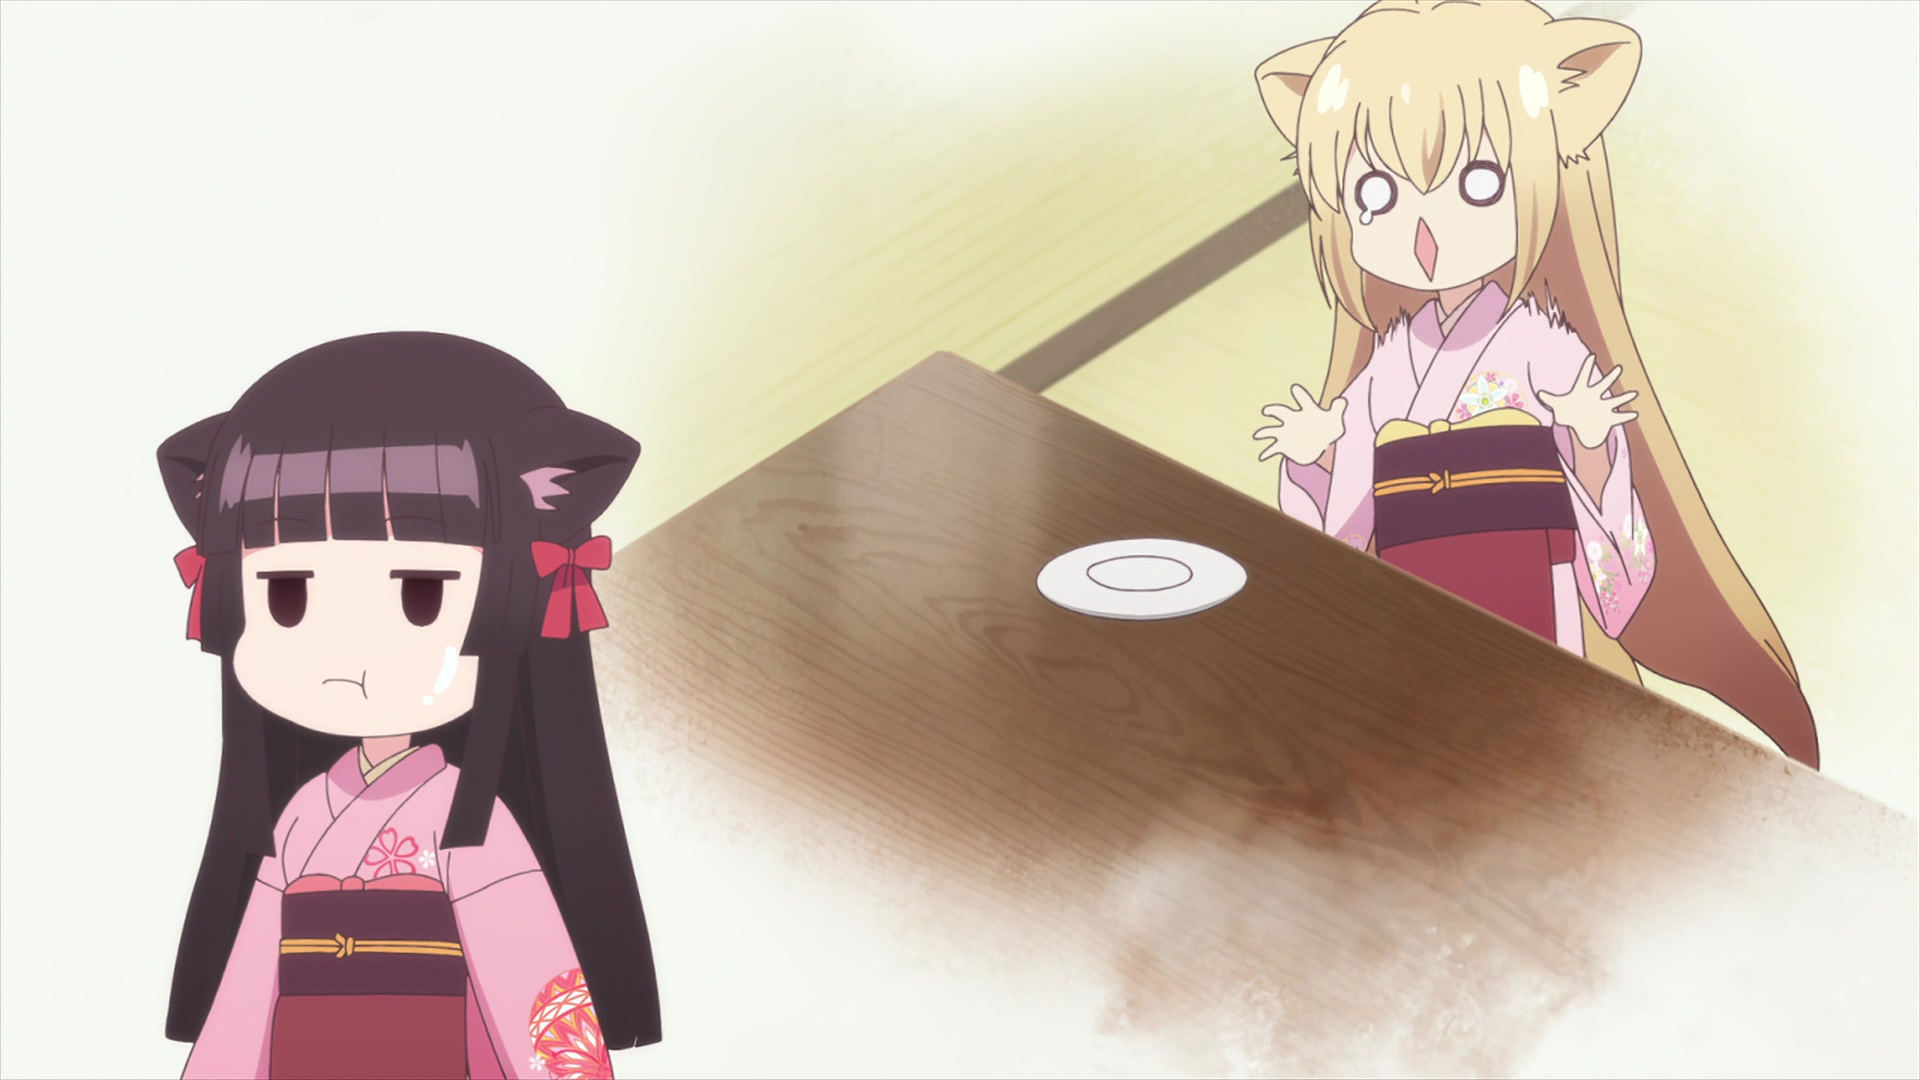柚: (1254, 1, 1818, 771)
樱: (154, 331, 665, 1080)
